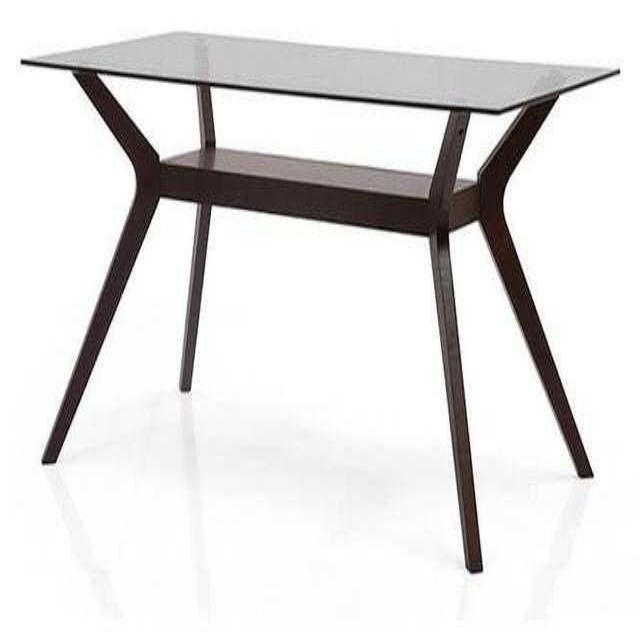obstacle: (23, 31, 618, 572)
